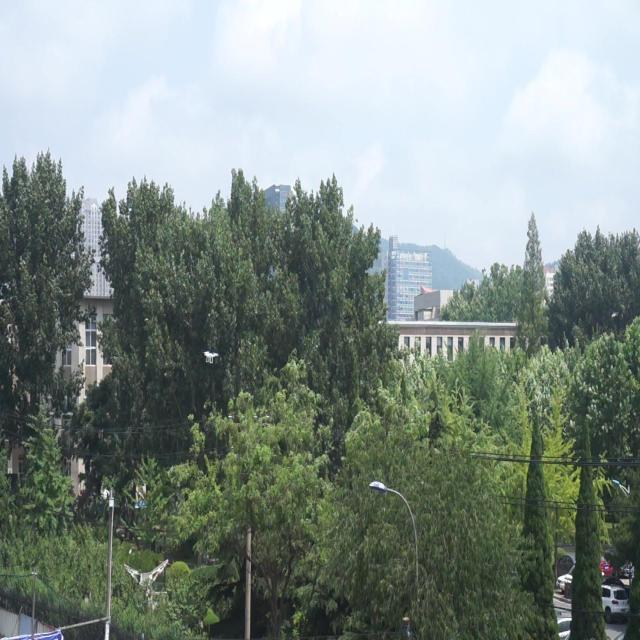drone: (202, 345, 220, 369)
